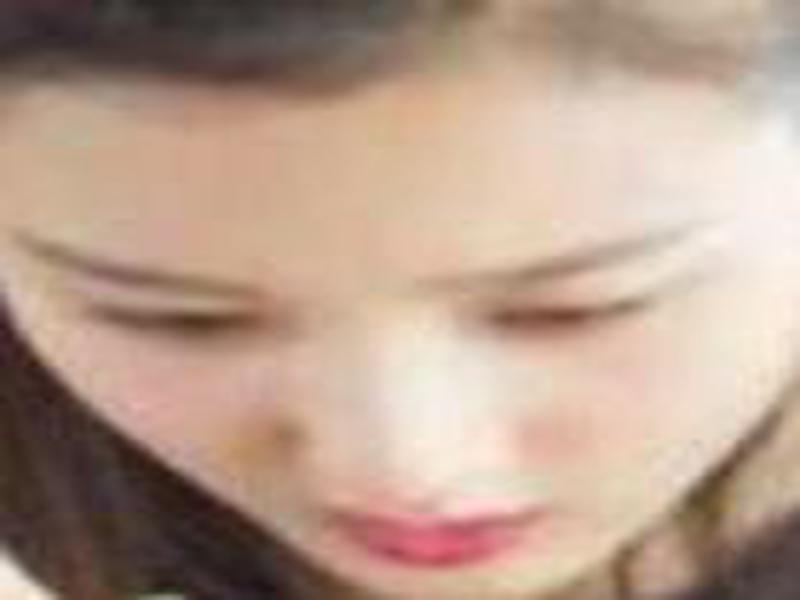without_mask: (1, 72, 800, 599)
